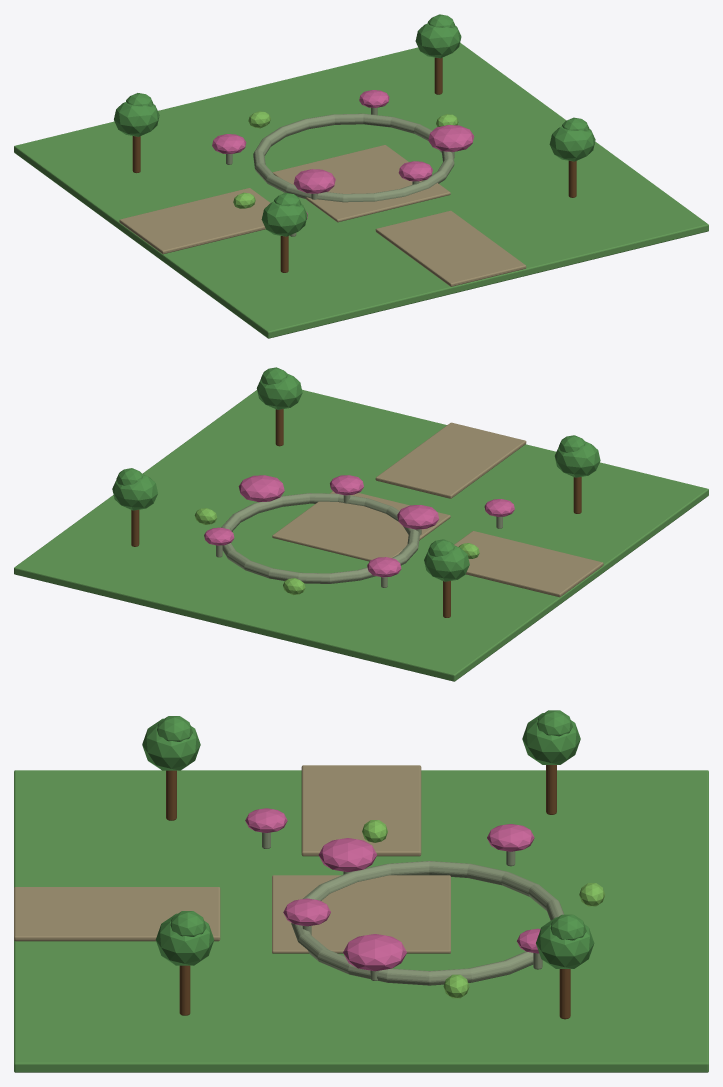
The model's file is chunk_mushroom_glen.fbx.
The picture shows the model from 3 angles, top to bottom: view 1: azimuth 30°, elevation 25°; view 2: azimuth 150°, elevation 25°; view 3: azimuth 270°, elevation 25°; orthographic projection. The views are drawn at different scales.
Visible parts, largest first — view 1: chunk_mushroom_glen; view 2: chunk_mushroom_glen; view 3: chunk_mushroom_glen.
Part boxes in pixels (bbox=[...]): chunk_mushroom_glen: bbox=[14, 14, 708, 338]; chunk_mushroom_glen: bbox=[14, 367, 708, 681]; chunk_mushroom_glen: bbox=[14, 710, 708, 1072].
Size of the model in its own units: 256 by 46.2 by 256.
